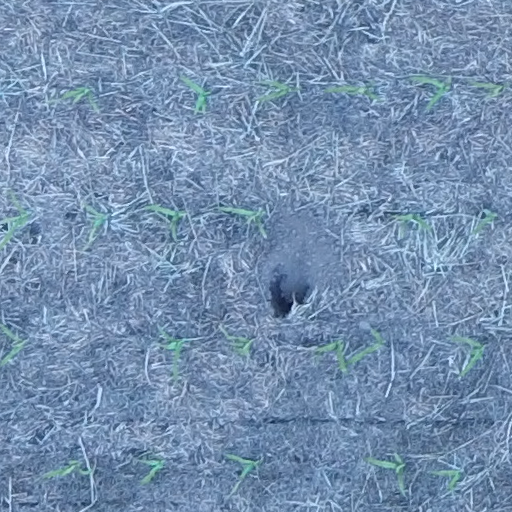planta: (360, 450, 408, 496), (156, 327, 191, 384), (141, 200, 189, 241), (407, 71, 454, 111), (447, 333, 487, 379), (216, 203, 269, 237), (344, 326, 387, 366), (321, 78, 384, 104), (311, 336, 351, 376), (176, 73, 214, 115), (254, 76, 303, 106), (40, 456, 96, 482), (80, 200, 109, 247), (387, 211, 435, 239), (223, 451, 264, 483), (57, 84, 102, 113), (221, 326, 255, 359), (136, 452, 167, 487), (428, 466, 464, 494), (467, 79, 511, 100), (469, 207, 500, 236)
